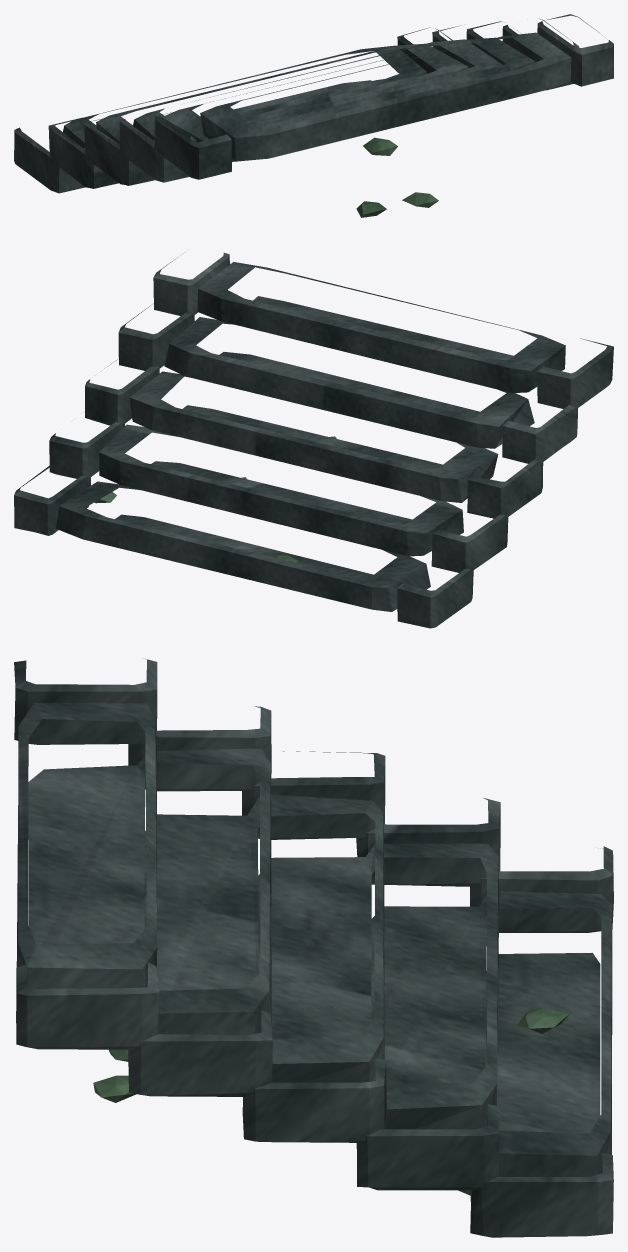
The model's file is 0366_stairs_16.glb.
3 views of the same model, one above another, from view 1: azimuth 30°, elevation 25°; view 2: azimuth 150°, elevation 25°; view 3: azimuth 270°, elevation 25° (orthographic). The views are drawn at different scales.
Visible parts, largest first — view 1: stone_dark, moss; view 2: stone_dark; view 3: stone_dark, moss.
Part boxes in pixels (box(x1,y1,x2,y2)): stone_dark: box(14, 14, 613, 193); moss: box(356, 137, 438, 217); stone_dark: box(14, 252, 613, 628); stone_dark: box(14, 659, 613, 1237); moss: box(93, 1008, 569, 1195).
Size of the model in its own units: 3.07 by 1.07 by 2.32.
2 materials, 2 textured.
